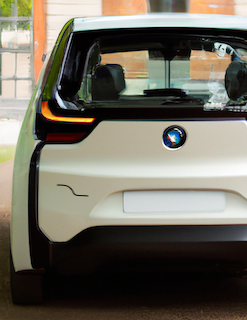scratch: (54, 179, 88, 201)
